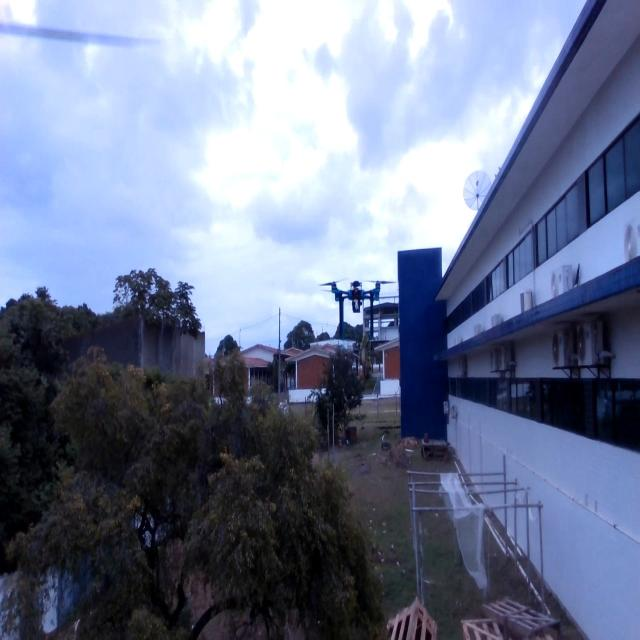-uav-: (316, 262, 396, 356)
